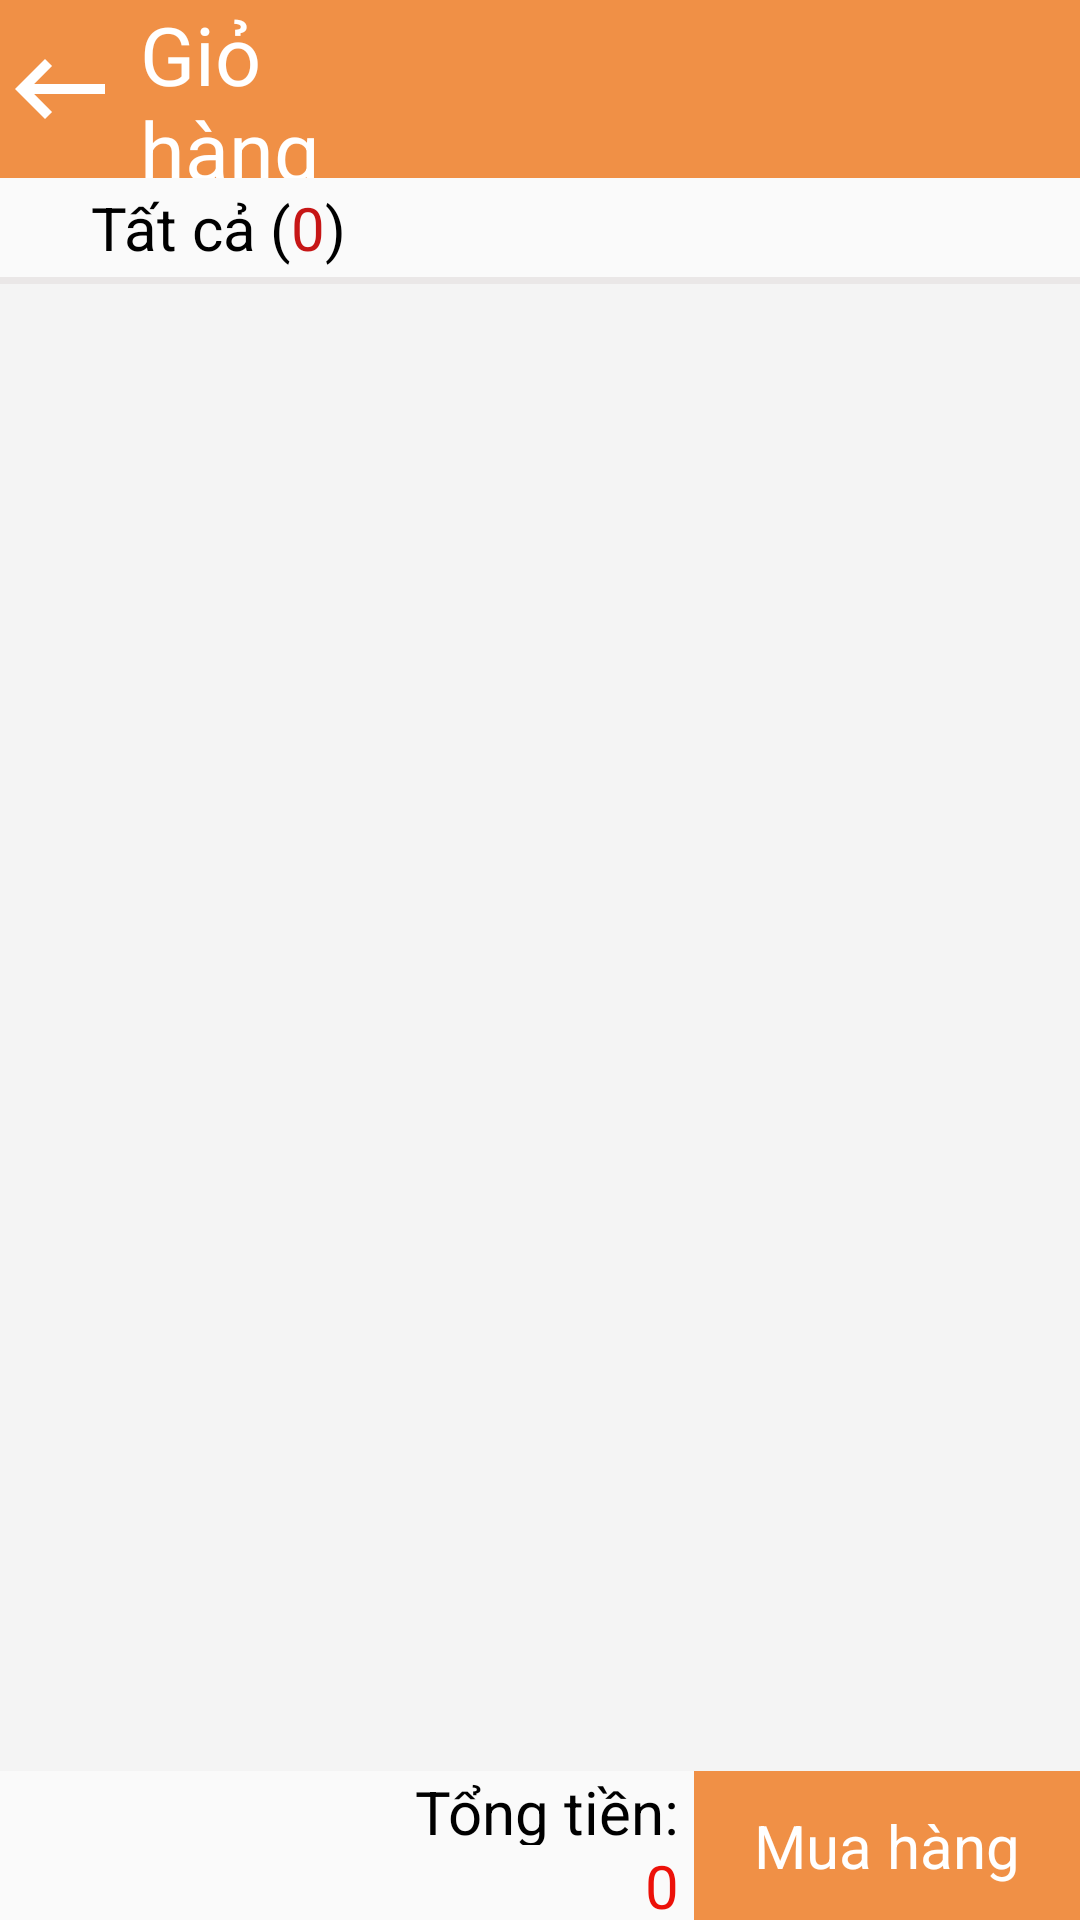

Locate icon controls on the screen. Image size 1080px×1920px, boxes as rect(x1, y1, x2, y2).
keyboard backspace: rect(15, 59, 105, 119)
